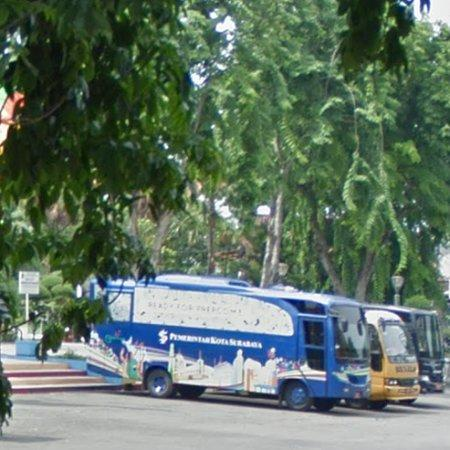buses: (67, 275, 370, 410)
